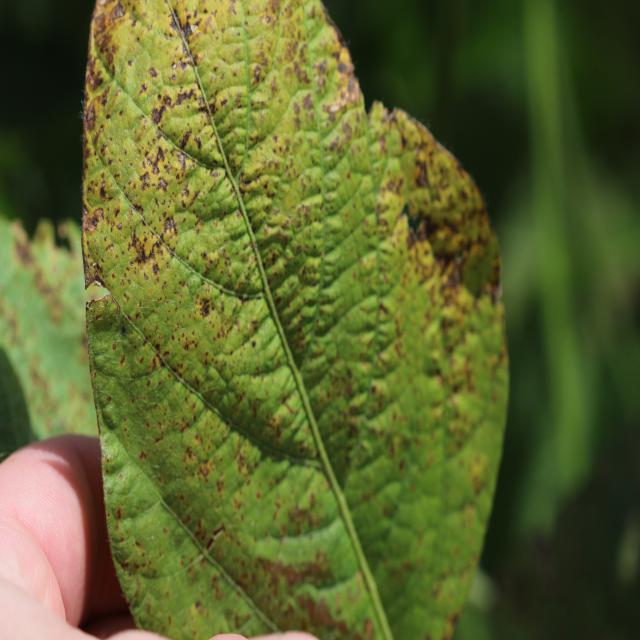Bacterial_Blight: (420, 261, 502, 419), (412, 136, 490, 252), (260, 182, 324, 261), (287, 584, 359, 634), (322, 66, 361, 120), (374, 183, 407, 236), (282, 497, 325, 534), (140, 140, 174, 184), (80, 202, 97, 283), (93, 27, 117, 81), (11, 223, 37, 268), (209, 87, 240, 118), (175, 15, 198, 53), (128, 237, 152, 265), (413, 154, 431, 188), (413, 217, 433, 246), (174, 86, 197, 107), (292, 60, 310, 86), (84, 207, 102, 231), (193, 518, 208, 541), (150, 104, 165, 126), (84, 100, 95, 127), (163, 218, 177, 238), (301, 91, 314, 112), (346, 419, 359, 440), (179, 129, 192, 149), (337, 59, 352, 76), (98, 181, 110, 201), (252, 63, 263, 84), (112, 3, 125, 20), (131, 201, 144, 217), (119, 353, 127, 368)
Soybean: (81, 0, 510, 640)
